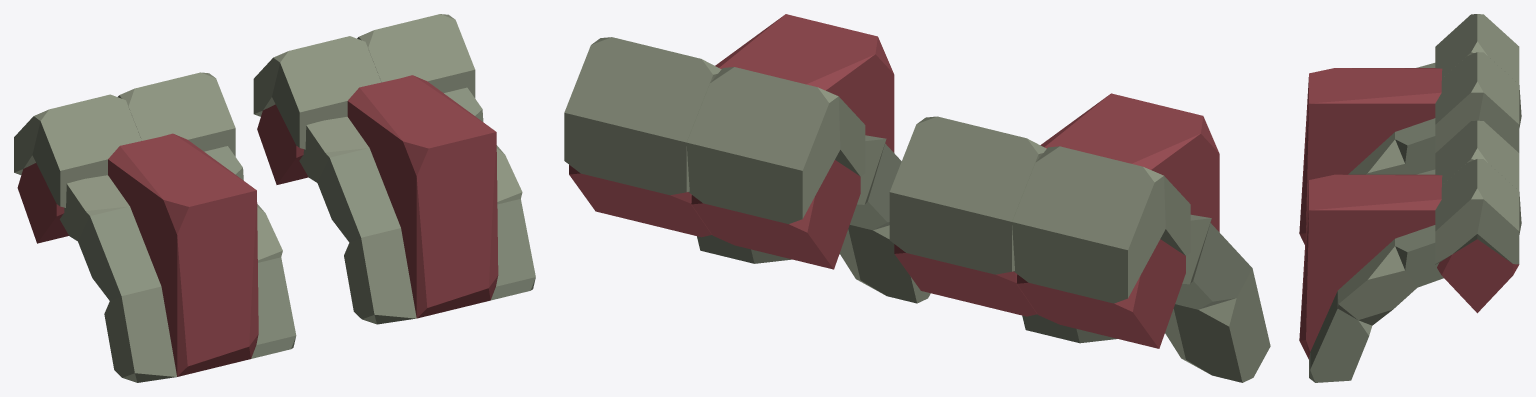
The model's file is bridge_element_support_start_1x2x1.fbx.
3 views of the same model, side by side, from view 1: azimuth 30°, elevation 25°; view 2: azimuth 150°, elevation 25°; view 3: azimuth 270°, elevation 25° (orthographic). The views are drawn at different scales.
Visible parts, largest first — view 1: bridge_element_support_start_1x2x1; view 2: bridge_element_support_start_1x2x1; view 3: bridge_element_support_start_1x2x1.
Part boxes in pixels (x1,y1,x2,y2): bridge_element_support_start_1x2x1: [14, 14, 535, 382]; bridge_element_support_start_1x2x1: [564, 14, 1270, 382]; bridge_element_support_start_1x2x1: [1299, 14, 1521, 382].
Bounding box in the file's own units: 266 × 126 × 132.
